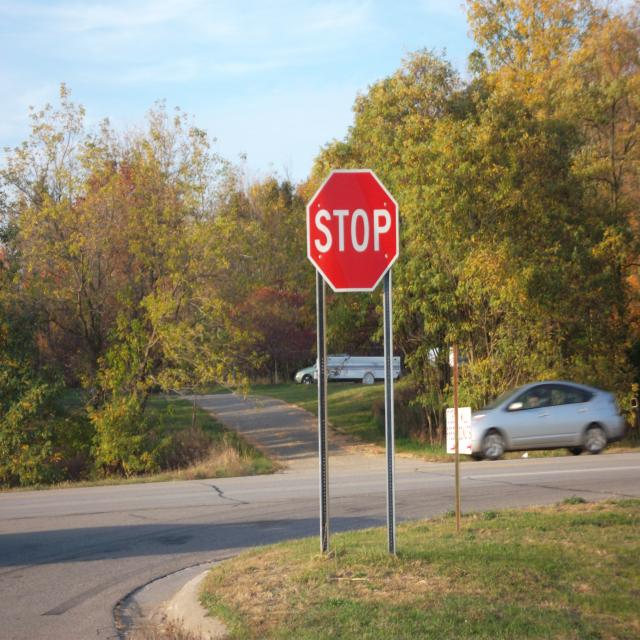stop: (302, 162, 402, 299)
